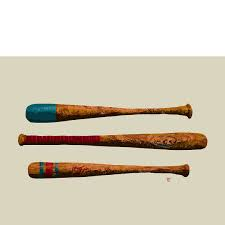baseball bat: (15, 131, 209, 152), (26, 102, 195, 124), (27, 160, 191, 180)
